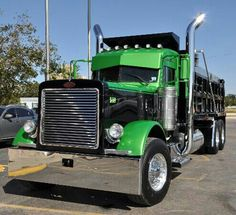truck: (8, 22, 226, 206)
